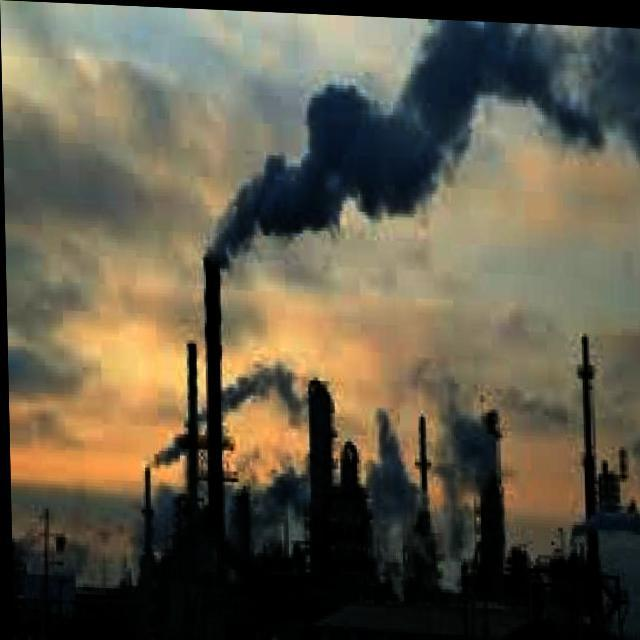Smoke: (198, 7, 640, 282), (131, 351, 515, 608)
